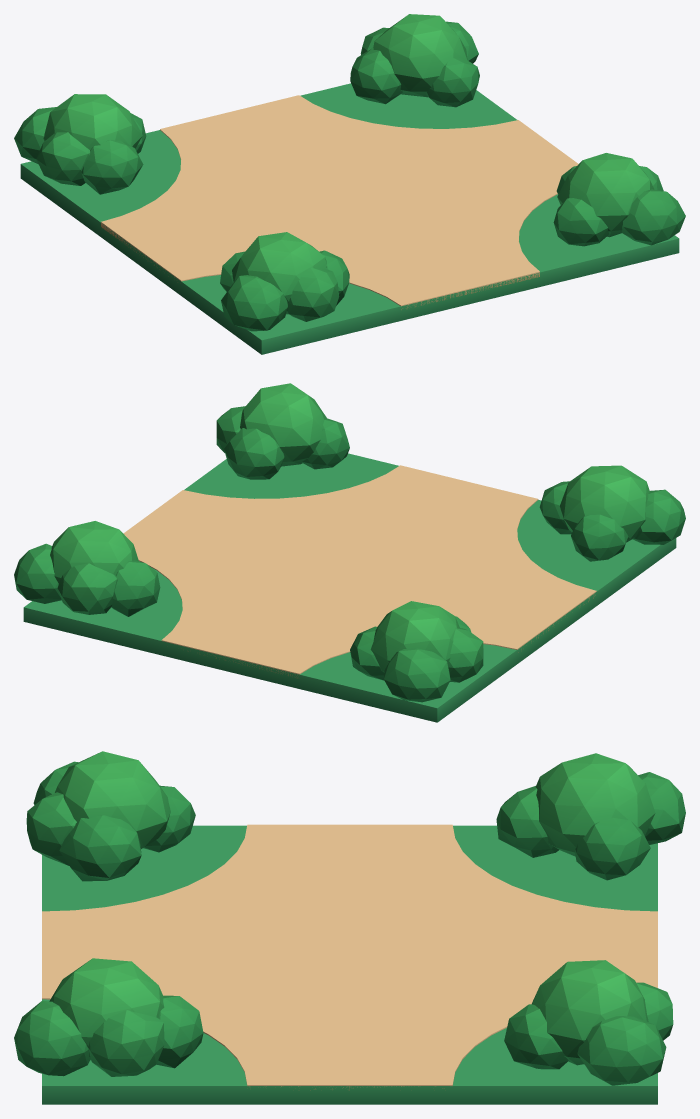
File: plaza_cruce_arbustos.glb
The picture shows the model from 3 angles, top to bottom: view 1: azimuth 30°, elevation 25°; view 2: azimuth 150°, elevation 25°; view 3: azimuth 270°, elevation 25°; orthographic projection. The views are drawn at different scales.
Parts seen in each view (by area): view 1: plaza_cruce_arbustos; view 2: plaza_cruce_arbustos; view 3: plaza_cruce_arbustos.
Boxes of the visible parts, <box> form: plaza_cruce_arbustos: <box>14,14,685,354</box>; plaza_cruce_arbustos: <box>14,383,685,722</box>; plaza_cruce_arbustos: <box>14,751,685,1104</box>.
Bounding box in the file's own units: 6.54 × 1.17 × 6.54.
1 material, 1 textured.
